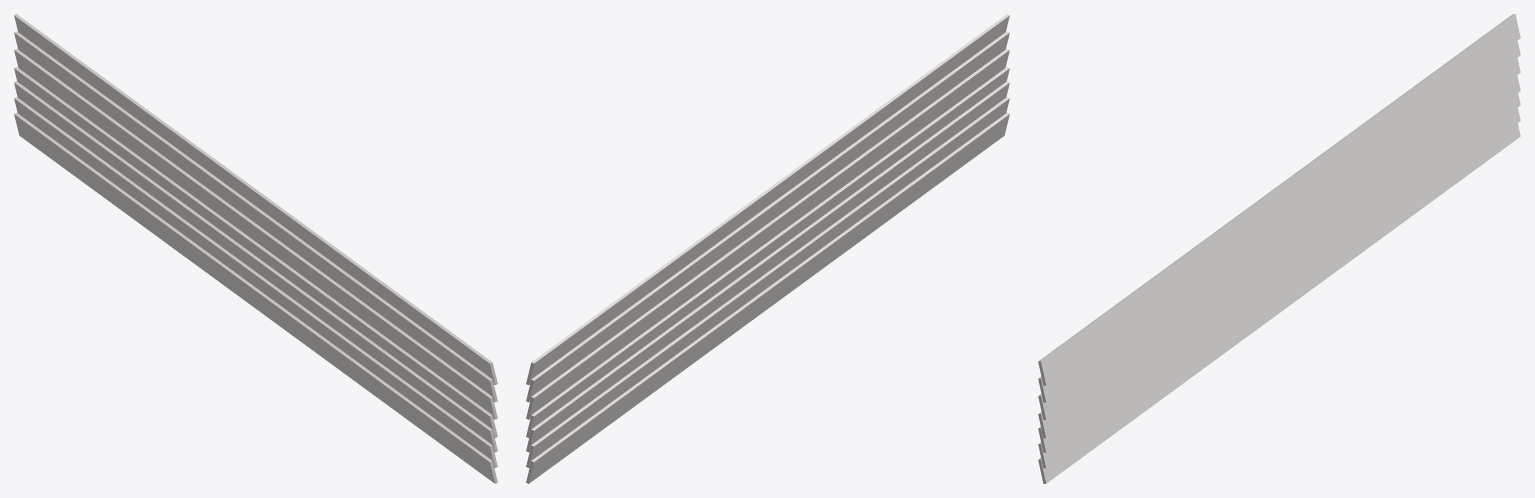
File: Office_Blinds.fbx
3 views of the same model, side by side, from view 1: azimuth 30°, elevation 25°; view 2: azimuth 150°, elevation 25°; view 3: azimuth 330°, elevation 25° (orthographic).
Parts seen in each view (by area): view 1: Office_Blinds; view 2: Office_Blinds; view 3: Office_Blinds.
Part boxes in pixels (x1=…): Office_Blinds: x1=14, y1=14, x2=497, y2=483; Office_Blinds: x1=526, y1=14, x2=1009, y2=483; Office_Blinds: x1=1038, y1=14, x2=1520, y2=483.
Bounding box in the file's own units: 3.47 × 50.44 × 356.
